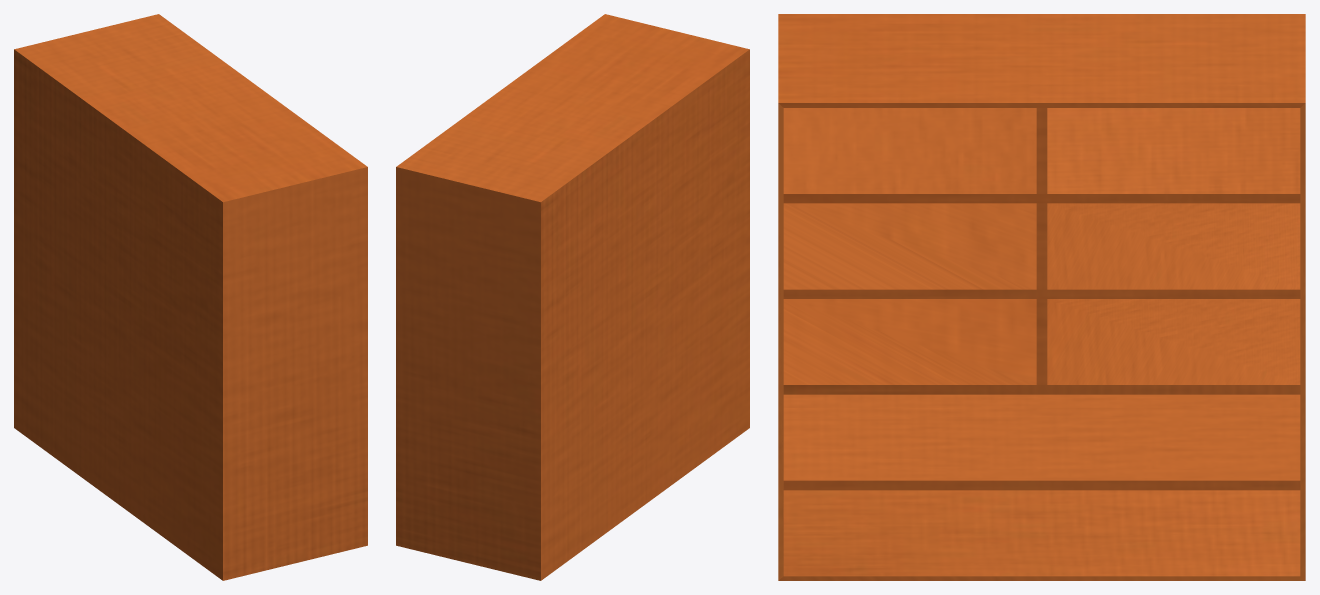
The model's file is cabinet.gltf.
3 views of the same model, side by side, from view 1: azimuth 30°, elevation 25°; view 2: azimuth 150°, elevation 25°; view 3: azimuth 270°, elevation 25° (orthographic). The views are drawn at different scales.
Parts seen in each view (by area): view 1: Plane; view 2: Plane; view 3: Plane.
Boxes of the visible parts, box(x1,y1,x2,y2) form: Plane: box(14, 14, 367, 580); Plane: box(396, 14, 749, 580); Plane: box(778, 14, 1305, 580).
Size of the model in its own units: 2.72 by 6.79 by 6.79.
Materials: 1 (1 with a texture image).
